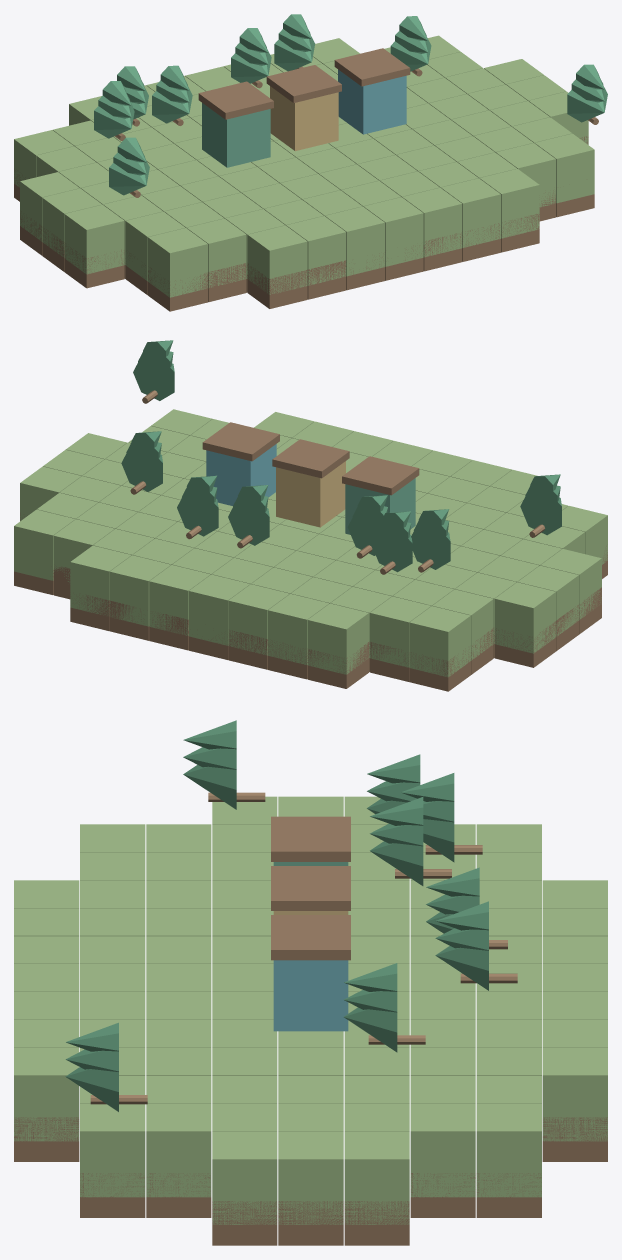
File: waste_guardian_island.glb
The picture shows the model from 3 angles, top to bottom: view 1: azimuth 30°, elevation 25°; view 2: azimuth 150°, elevation 25°; view 3: azimuth 270°, elevation 25°; orthographic projection. The views are drawn at different scales.
Parts seen in each view (by area): view 1: waste_005, waste_019, waste_051, waste_227, waste_231, waste_229, waste_123, waste_187, waste_087, waste_105, waste_141, waste_159 (+101 smaller); view 2: waste_001, waste_007, waste_035, waste_229, waste_089, waste_175, waste_021, waste_053, waste_071, waste_125, waste_143, waste_107 (+93 smaller); view 3: waste_185, waste_175, waste_177, waste_143, waste_187, waste_193, waste_191, waste_189, waste_159, waste_231, waste_228, waste_232 (+109 smaller).
Part boxes in pixels (bbox=[...]): waste_005: bbox=[64, 204, 124, 274]; waste_019: bbox=[148, 228, 207, 297]; waste_051: bbox=[247, 225, 307, 294]; waste_227: bbox=[202, 103, 270, 167]; waste_231: bbox=[338, 69, 406, 134]; waste_229: bbox=[270, 86, 338, 151]; waste_123: bbox=[402, 187, 462, 257]; waste_187: bbox=[534, 133, 594, 203]; waste_087: bbox=[325, 206, 384, 276]; waste_105: bbox=[363, 197, 423, 266]; waste_141: bbox=[441, 178, 500, 247]; waste_159: bbox=[479, 169, 539, 238]; waste_001: bbox=[494, 582, 556, 653]; waste_007: bbox=[409, 606, 470, 677]; waste_035: bbox=[307, 603, 368, 674]; waste_229: bbox=[276, 461, 345, 527]; waste_089: bbox=[189, 574, 250, 645]; waste_175: bbox=[14, 509, 75, 580]; waste_021: bbox=[370, 596, 431, 667]; waste_053: bbox=[268, 594, 329, 664]; waste_071: bbox=[228, 584, 289, 655]; waste_125: bbox=[109, 555, 170, 626]; waste_143: bbox=[70, 545, 131, 615]; waste_107: bbox=[149, 565, 210, 635]; waste_185: bbox=[146, 1103, 211, 1197]; waste_175: bbox=[476, 1103, 541, 1197]; waste_177: bbox=[410, 1103, 475, 1197]; waste_143: bbox=[542, 1048, 607, 1141]; waste_187: bbox=[80, 1103, 145, 1197]; waste_193: bbox=[212, 1131, 277, 1224]; waste_191: bbox=[278, 1131, 343, 1224]; waste_189: bbox=[344, 1131, 409, 1224]; waste_159: bbox=[14, 1048, 79, 1141]; waste_231: bbox=[273, 960, 348, 1031]; waste_228: bbox=[271, 816, 350, 861]; waste_232: bbox=[271, 915, 350, 960].
Size of the model in its own units: 9.22 by 2.34 by 6.38.
